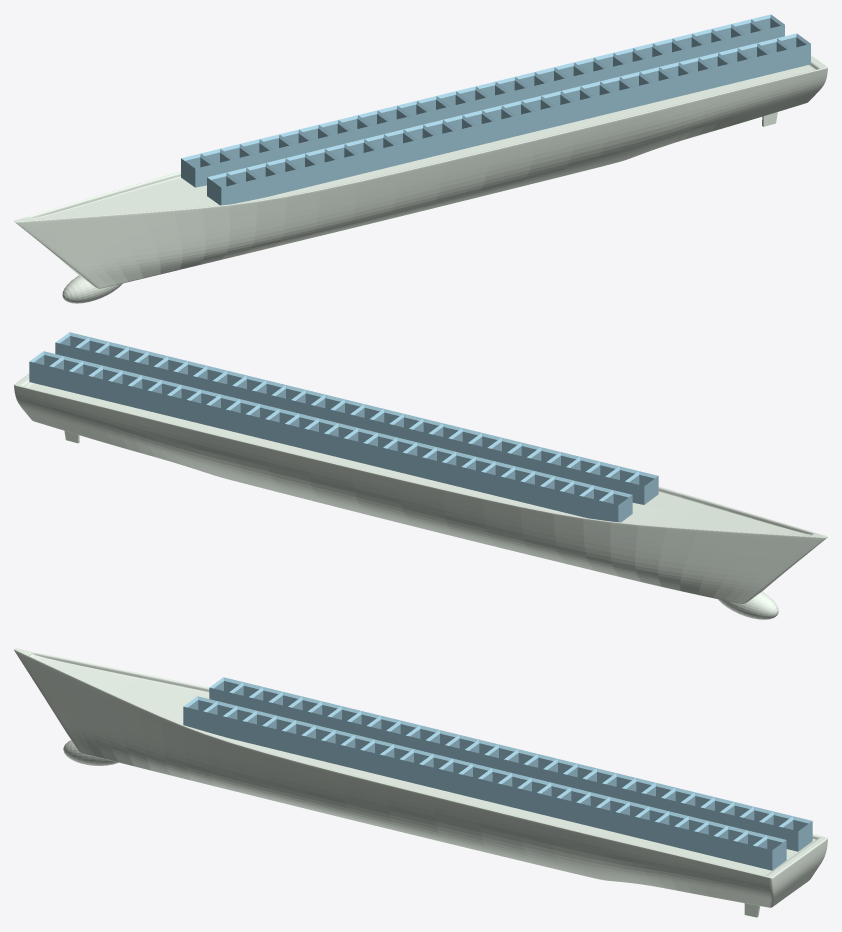
File: chuan.glb
3 renders of one model, top to bottom at view 1: azimuth 30°, elevation 25°; view 2: azimuth 150°, elevation 25°; view 3: azimuth 330°, elevation 25°, orthographic.
Visible parts, largest first — view 1: 球体; view 2: 球体; view 3: 球体.
Part boxes in pixels (x1,y1,x2,y2): 球体: (14, 14, 827, 303); 球体: (14, 332, 827, 619); 球体: (14, 648, 827, 917).
Bounding box in the file's own units: 160 × 19.27 × 20.
